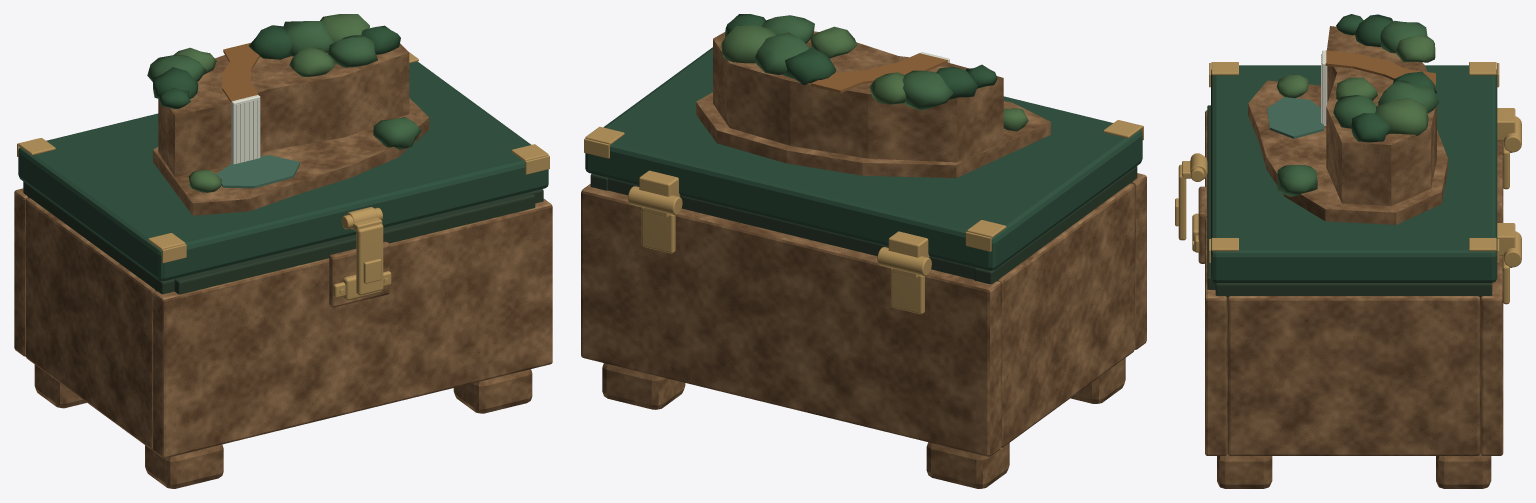
File: guyana.glb
The picture shows the model from 3 angles, left to right: view 1: azimuth 30°, elevation 25°; view 2: azimuth 150°, elevation 25°; view 3: azimuth 270°, elevation 25°; orthographic projection. The views are drawn at different scales.
Visible parts, largest first — view 1: Body / sandstone long, Lid / polished slab, Body / sandstone side, Terrain / sandstone plateau, Terrain / lower island, Seam / long, Foot / sandstone, Foot / sandstone.002, Body / sandstone long.001, Water / lower pool, Seam / side, Water / connected waterfall (+14 smaller); view 2: Body / sandstone long.001, Lid / polished slab, Body / sandstone side, Terrain / sandstone plateau, Terrain / lower island, Seam / long.001, Foot / sandstone.001, Foot / sandstone.003, Seam / side, Body / sandstone long, Water / upper Potaro river, Canopy / crown 1 (+14 smaller); view 3: Body / sandstone side.001, Lid / polished slab, Terrain / sandstone plateau, Terrain / lower island, Body / sandstone long.001, Body / sandstone long, Seam / side.001, Water / lower pool, Foot / sandstone.002, Foot / sandstone.003, Canopy / crown 5, Water / upper Potaro river (+23 smaller).
Part boxes in pixels (x1,y1,x2,y2): Body / sandstone long: [153, 199, 552, 458]; Lid / polished slab: [18, 61, 548, 281]; Body / sandstone side: [25, 198, 155, 449]; Terrain / sandstone plateau: [158, 43, 409, 176]; Terrain / lower island: [153, 98, 429, 215]; Seam / long: [174, 192, 535, 294]; Foot / sandstone: [145, 444, 223, 488]; Foot / sandstone.002: [453, 369, 532, 413]; Body / sandstone long.001: [14, 188, 28, 356]; Water / lower pool: [216, 155, 299, 188]; Seam / side: [23, 181, 174, 294]; Water / connected waterfall: [231, 95, 260, 164]; Body / sandstone long.001: [581, 184, 1000, 456]; Lid / polished slab: [585, 47, 1142, 270]; Body / sandstone side: [998, 183, 1134, 447]; Terrain / sandstone plateau: [713, 31, 1003, 162]; Terrain / lower island: [696, 92, 1050, 177]; Seam / long.001: [605, 177, 975, 279]; Foot / sandstone.001: [926, 442, 1009, 488]; Foot / sandstone.003: [602, 363, 685, 409]; Seam / side: [974, 166, 1137, 284]; Body / sandstone long: [1132, 173, 1146, 349]; Water / upper Potaro river: [810, 53, 948, 92]; Canopy / crown 1: [902, 70, 953, 110]; Body / sandstone side.001: [1227, 296, 1480, 455]; Lid / polished slab: [1211, 65, 1497, 282]; Terrain / sandstone plateau: [1326, 26, 1436, 205]; Terrain / lower island: [1248, 80, 1447, 224]; Body / sandstone long.001: [1480, 140, 1503, 455]; Body / sandstone long: [1205, 110, 1227, 455]; Seam / side.001: [1215, 283, 1492, 297]; Water / lower pool: [1267, 97, 1323, 138]; Foot / sandstone.002: [1217, 453, 1272, 488]; Foot / sandstone.003: [1436, 453, 1491, 488]; Canopy / crown 5: [1375, 98, 1428, 135]; Water / upper Potaro river: [1325, 50, 1435, 89].
Size of the model in its own units: 3.72 by 3.15 by 2.88.
Materials: 11 (1 with a texture image).
